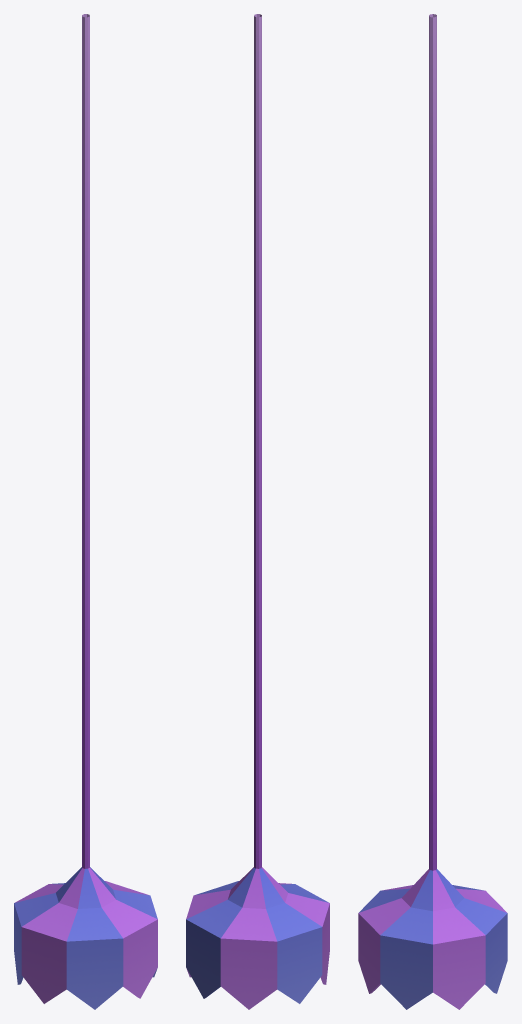
File: chandelier.fbx
The picture shows the model from 3 angles, left to right: view 1: azimuth 30°, elevation 25°; view 2: azimuth 150°, elevation 25°; view 3: azimuth 270°, elevation 25°; orthographic projection.
Visible parts, largest first — view 1: chandelier; view 2: chandelier; view 3: chandelier.
Boxes of the visible parts, x1,y1,x2,y2 form: chandelier: (14,14,157,1009); chandelier: (186,14,329,1009); chandelier: (358,14,507,1009).
Size of the model in its own units: 38.94 by 279 by 38.94.
